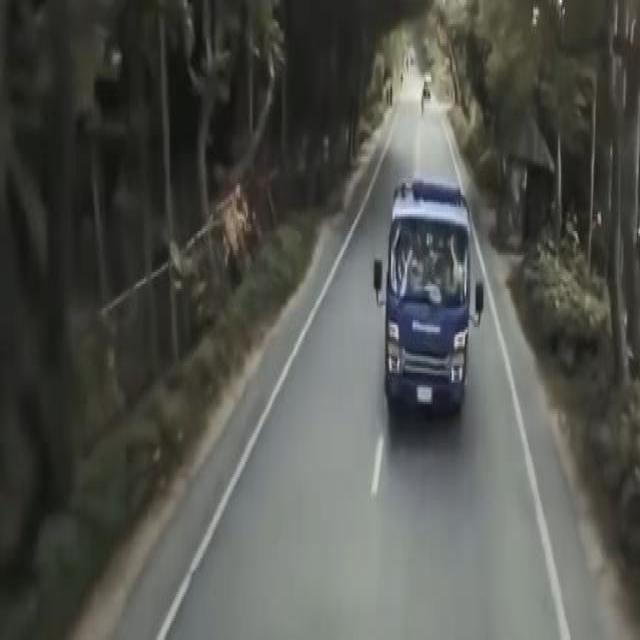Pick-up-van: (370, 178, 488, 430)
